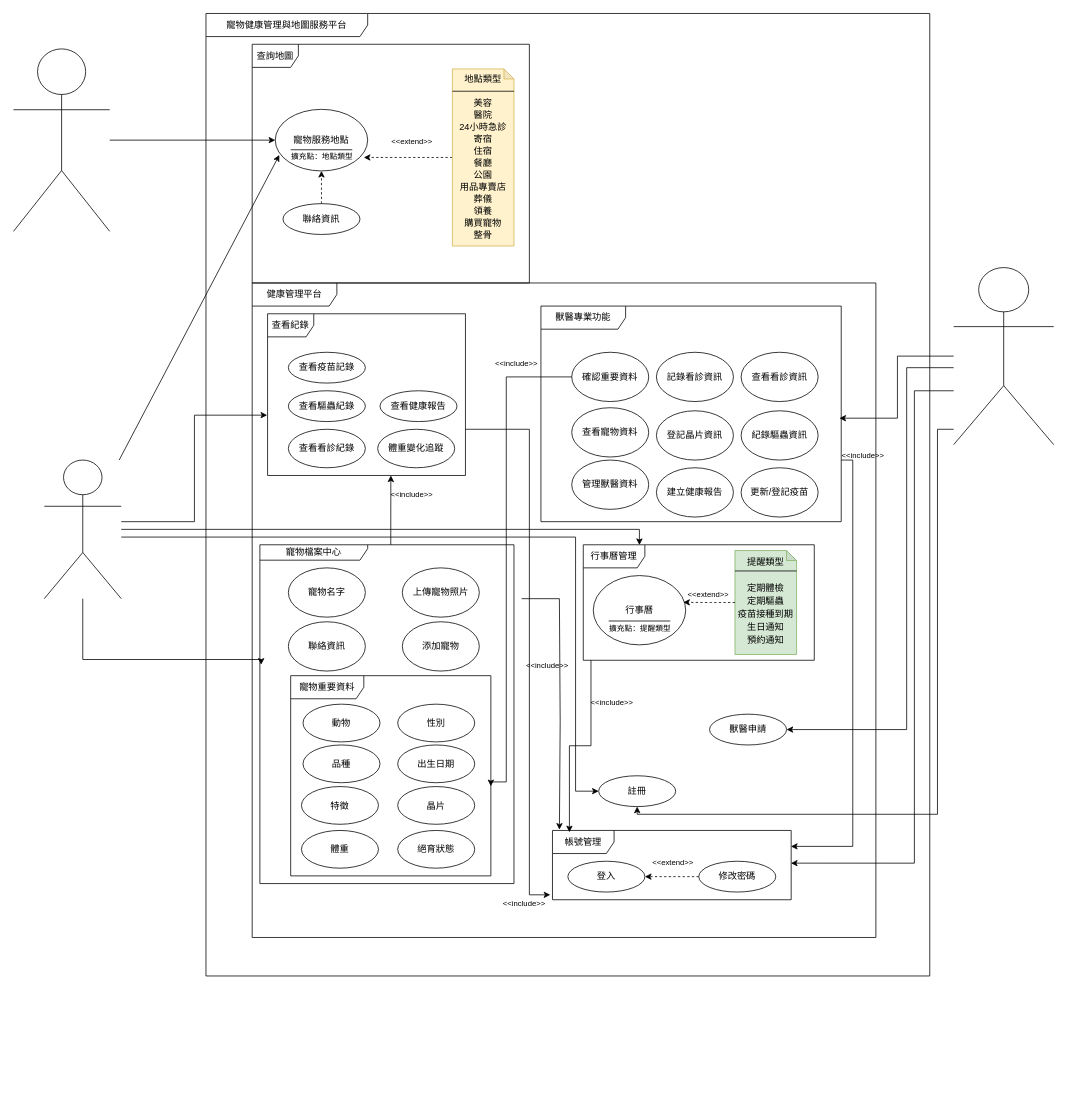
Some shapes in this 1067 by 1105 pixel diagram are drawn without their labels. The centre of each missing label's shape, as x and y in pixels:
"一般使用者" belongs at point (61, 139).
"寵物主人" belongs at point (82, 529).
"獸醫" belongs at point (1003, 356).
